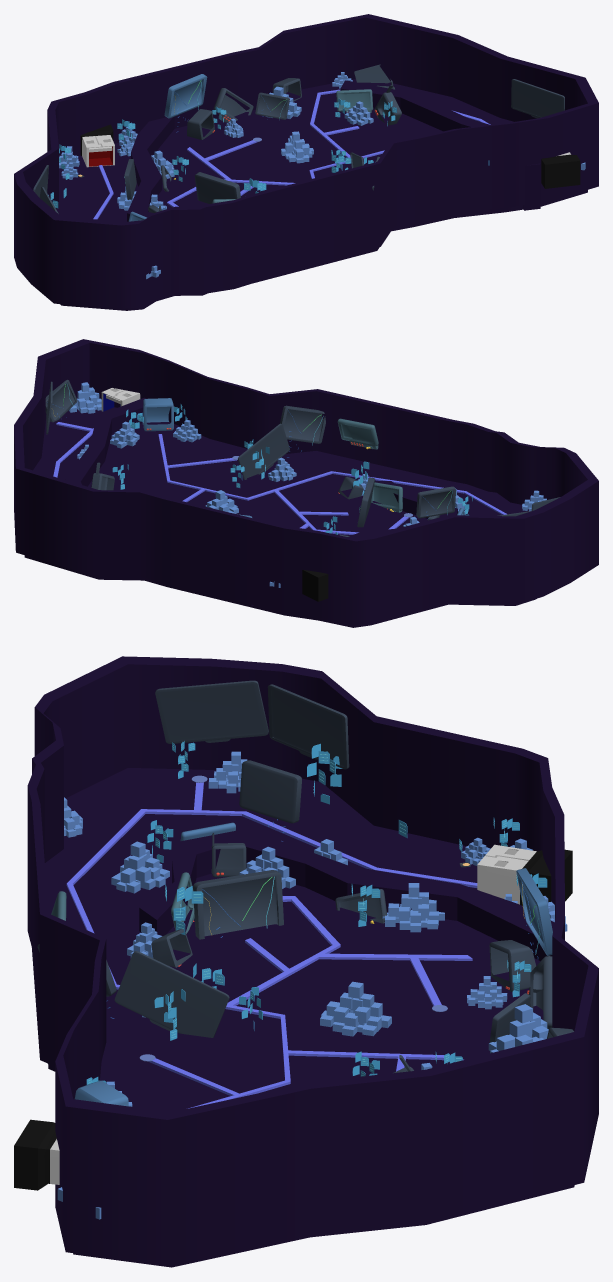
File: Location 3 (Clean).fbx
3 renders of one model, top to bottom at view 1: azimuth 30°, elevation 25°; view 2: azimuth 150°, elevation 25°; view 3: azimuth 270°, elevation 25°, orthographic. The views are drawn at different scales.
Parts seen in each view (by area): view 1: Plane.003, Plane, Plane.011, Plane.010, Plane.004, Cube.097, Cube.031, Cube.090, Cube.091, Cube.200, Cube.191, Cube.163 (+6 smaller); view 2: Plane.003, Plane, Plane.004, Plane.011, Cube.183, Cube.177, Cube.152, Cube.134, Cube.181, Cube.213, Cube.091, Cube.195 (+9 smaller); view 3: Plane.003, Plane, Plane.010, Plane.004, Cube.094, Cube.183, Cube.200, Cube.093, Cube.091, Cube.152, Cube.090, Cube.119 (+14 smaller).
Boxes of the visible parts, bbox=[...] form: Plane.003: bbox=[14, 14, 598, 308]; Plane: bbox=[56, 79, 587, 310]; Plane.011: bbox=[340, 80, 540, 210]; Plane.010: bbox=[127, 116, 174, 221]; Plane.004: bbox=[93, 89, 490, 219]; Cube.097: bbox=[511, 79, 564, 118]; Cube.031: bbox=[164, 74, 207, 118]; Cube.090: bbox=[541, 152, 580, 188]; Cube.091: bbox=[80, 124, 114, 167]; Cube.200: bbox=[194, 172, 240, 203]; Cube.191: bbox=[255, 92, 289, 119]; Cube.163: bbox=[213, 88, 253, 122]; Plane.003: bbox=[14, 339, 598, 625]; Plane: bbox=[24, 407, 536, 627]; Plane.004: bbox=[53, 422, 506, 534]; Plane.011: bbox=[65, 397, 146, 486]; Cube.183: bbox=[238, 423, 289, 479]; Cube.177: bbox=[280, 405, 325, 443]; Cube.152: bbox=[416, 486, 456, 518]; Cube.134: bbox=[142, 398, 173, 431]; Cube.181: bbox=[337, 418, 378, 449]; Cube.213: bbox=[45, 379, 77, 422]; Cube.091: bbox=[302, 569, 328, 601]; Cube.195: bbox=[371, 482, 402, 512]; Plane.003: bbox=[27, 656, 598, 1265]; Plane: bbox=[45, 768, 574, 1267]; Plane.010: bbox=[139, 828, 554, 961]; Plane.004: bbox=[66, 782, 477, 1108]; Cube.094: bbox=[155, 680, 268, 743]; Cube.183: bbox=[114, 951, 229, 1037]; Cube.200: bbox=[193, 870, 283, 939]; Cube.093: bbox=[267, 684, 349, 769]; Cube.091: bbox=[477, 844, 572, 905]; Cube.152: bbox=[239, 760, 301, 823]; Cube.090: bbox=[14, 1119, 59, 1190]; Cube.119: bbox=[320, 981, 391, 1036].
Bounding box in the file's own units: 6608 × 1033 × 3524.
